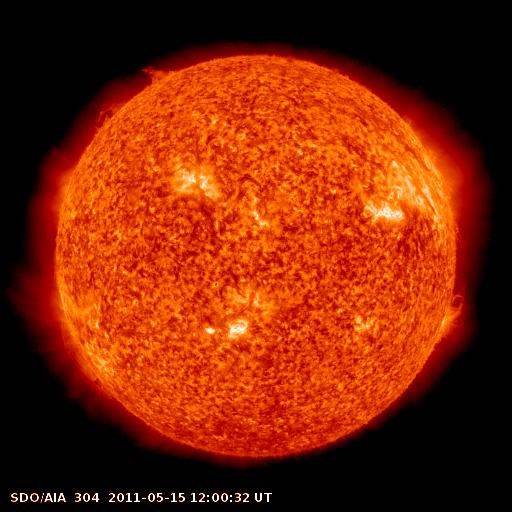prominence: (55, 319, 114, 400), (87, 96, 136, 138), (136, 53, 174, 99), (439, 287, 471, 325)
